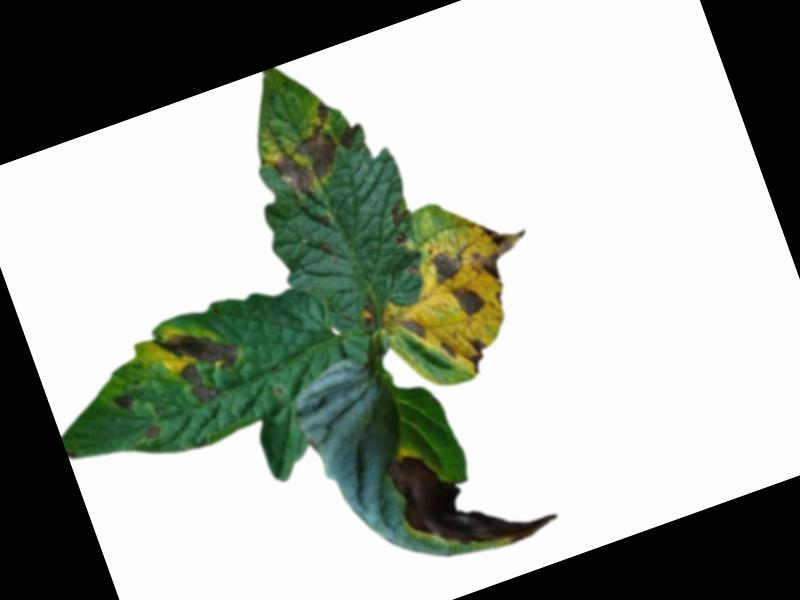Early_blight: (383, 415, 561, 576), (258, 100, 356, 205), (154, 312, 252, 412), (458, 210, 543, 287), (424, 245, 468, 288), (449, 278, 491, 322), (383, 201, 417, 249), (460, 336, 495, 377), (336, 119, 368, 152), (398, 313, 429, 347), (111, 389, 137, 416), (440, 338, 460, 364), (359, 302, 378, 328), (143, 425, 164, 441)
